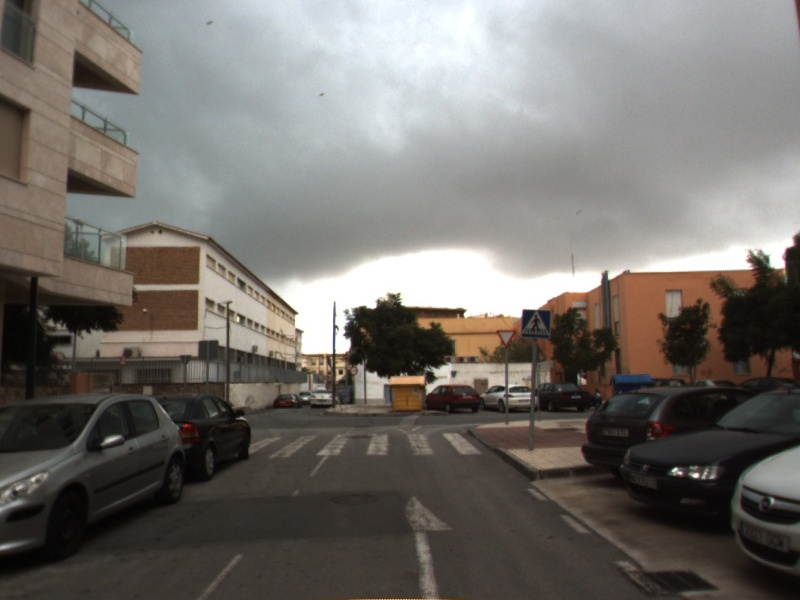STRAIGHT: (402, 493, 458, 600)
